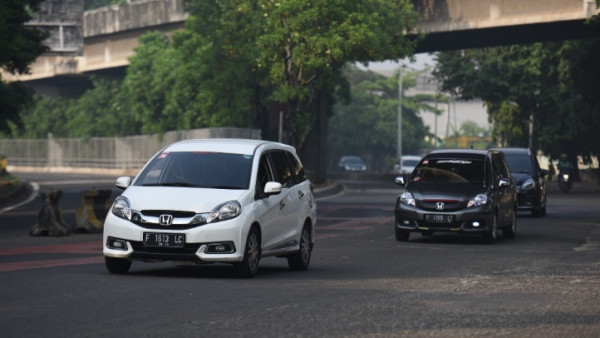plate: (143, 231, 183, 249), (425, 213, 452, 224)
